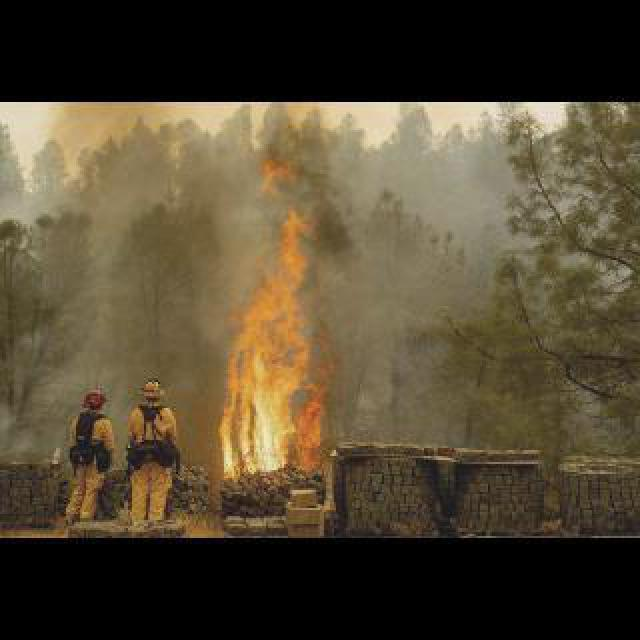fire: (244, 194, 308, 482)
smoke: (272, 124, 354, 242)
